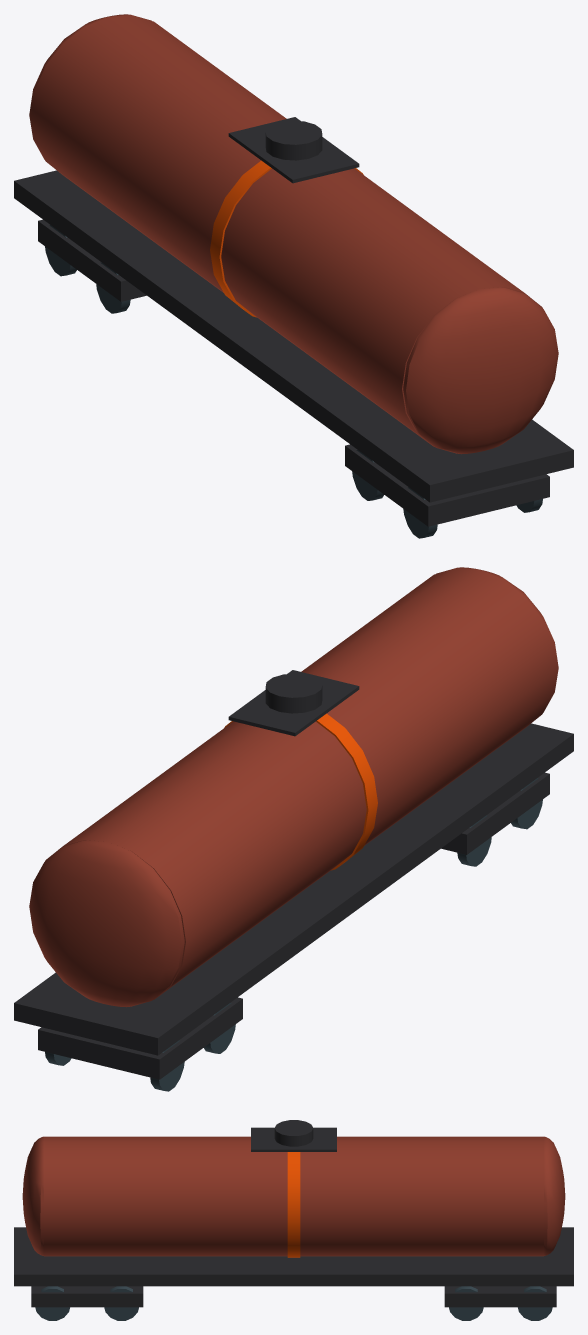
Rendered from roadevents_train_tank.glb.
3 renders of one model, top to bottom at view 1: azimuth 30°, elevation 25°; view 2: azimuth 150°, elevation 25°; view 3: azimuth 270°, elevation 25°, orthographic. The views are drawn at different scales.
Visible parts, largest first — view 1: TrainTank; view 2: TrainTank; view 3: TrainTank.
Part boxes in pixels (x1,y1,x2,y2): TrainTank: (14, 14, 573, 538); TrainTank: (14, 567, 573, 1091); TrainTank: (14, 1120, 573, 1320).
Bounding box in the file's own units: 2.86 × 4.46 × 13.
